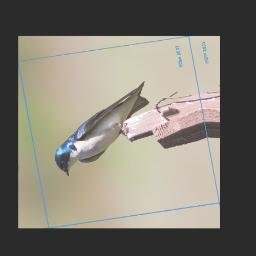Swallow: (43, 79, 162, 179)
